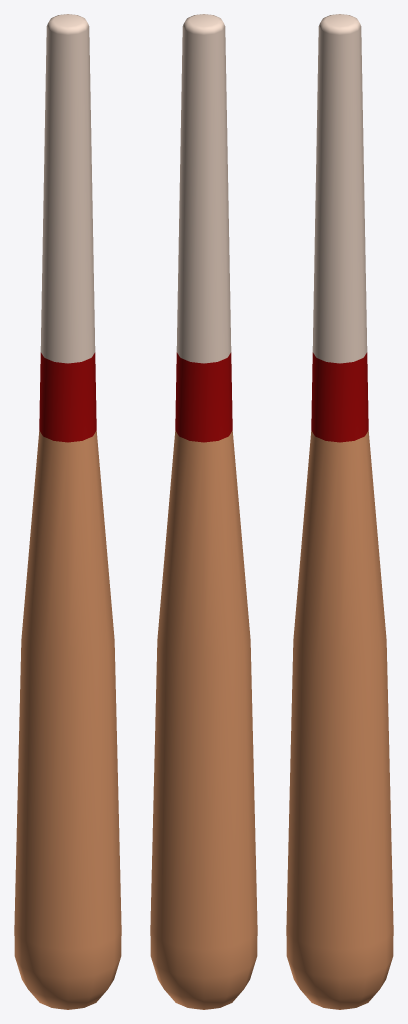
File: baseball_bat.fbx
3 views of the same model, side by side, from view 1: azimuth 30°, elevation 25°; view 2: azimuth 150°, elevation 25°; view 3: azimuth 330°, elevation 25° (orthographic).
Visible parts, largest first — view 1: baseball_bat; view 2: baseball_bat; view 3: baseball_bat.
Boxes of the visible parts, x1,y1,x2,y2 form: baseball_bat: (14,14,121,1009); baseball_bat: (150,14,257,1009); baseball_bat: (286,14,393,1009).
Bounding box in the file's own units: 24.11 × 244 × 24.11.
